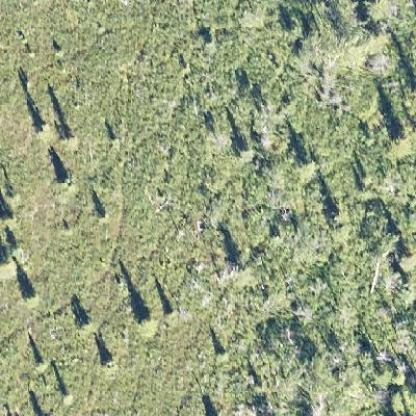tree-top: (388, 125, 412, 151), (53, 168, 78, 192), (133, 311, 159, 334), (232, 140, 254, 162), (74, 314, 97, 335), (58, 127, 81, 148), (96, 354, 118, 374), (22, 287, 42, 307), (32, 354, 49, 369)
